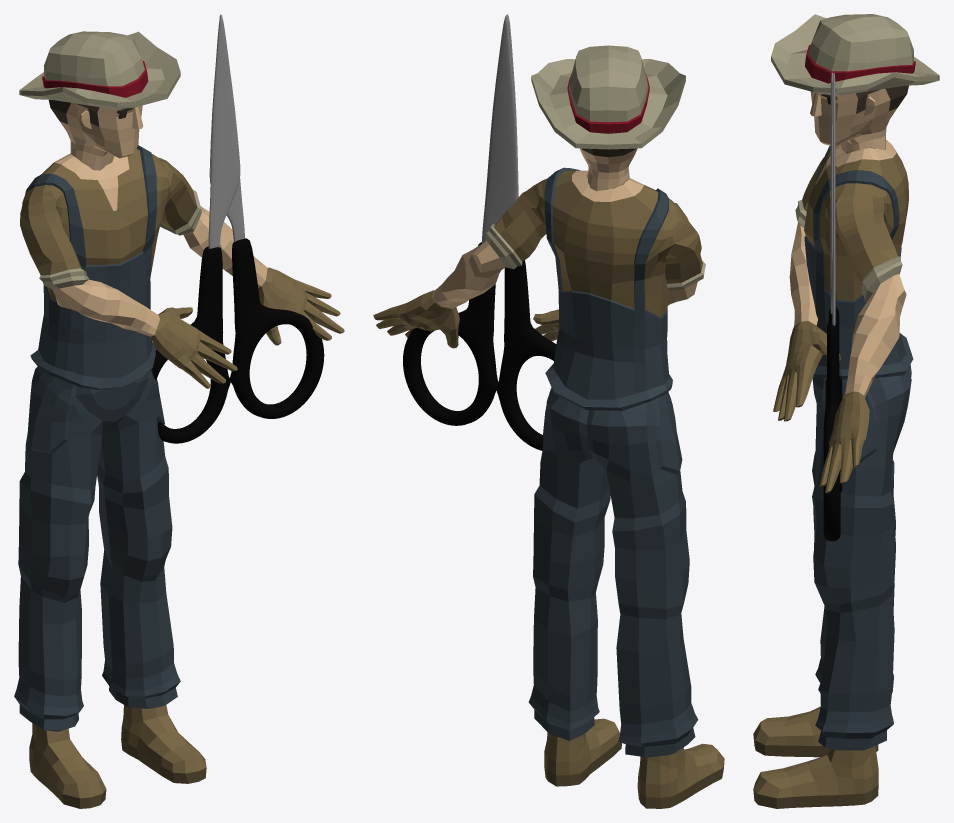
The model's file is Farmer_Closed_Scissors_Threat.fbx.
3 renders of one model, left to right at view 1: azimuth 30°, elevation 25°; view 2: azimuth 150°, elevation 25°; view 3: azimuth 270°, elevation 25°, orthographic. The views are drawn at different scales.
Visible parts, largest first — view 1: Farmer_Pants, Farmer_Body, Farmer_Head, scissors2, Farmer_Feet, scissors1; view 2: Farmer_Pants, Farmer_Body, Farmer_Head, scissors1, Farmer_Feet, scissors2; view 3: Farmer_Body, Farmer_Pants, Farmer_Head, Farmer_Feet, scissors1, scissors2.
Part boxes in pixels (x1=…): Farmer_Pants: x1=14, y1=366, x2=180, y2=731; Farmer_Body: x1=20, y1=145, x2=344, y2=389; Farmer_Head: x1=19, y1=31, x2=180, y2=170; scissors2: x1=151, y1=15, x2=240, y2=443; Farmer_Feet: x1=29, y1=705, x2=206, y2=808; scissors1: x1=209, y1=14, x2=324, y2=418; Farmer_Pants: x1=528, y1=388, x2=698, y2=757; Farmer_Body: x1=373, y1=167, x2=705, y2=410; Farmer_Head: x1=531, y1=45, x2=685, y2=191; scissors1: x1=403, y1=15, x2=517, y2=425; Farmer_Feet: x1=544, y1=718, x2=724, y2=808; scissors2: x1=496, y1=14, x2=556, y2=450; Farmer_Body: x1=773, y1=140, x2=913, y2=493; Farmer_Pants: x1=812, y1=364, x2=911, y2=750; Farmer_Head: x1=771, y1=14, x2=939, y2=151; Farmer_Feet: x1=753, y1=706, x2=878, y2=808; scissors1: x1=823, y1=73, x2=840, y2=541; scissors2: x1=825, y1=72, x2=842, y2=492.
Size of the model in its own units: 0.8441 by 0.4141 by 1.86.
